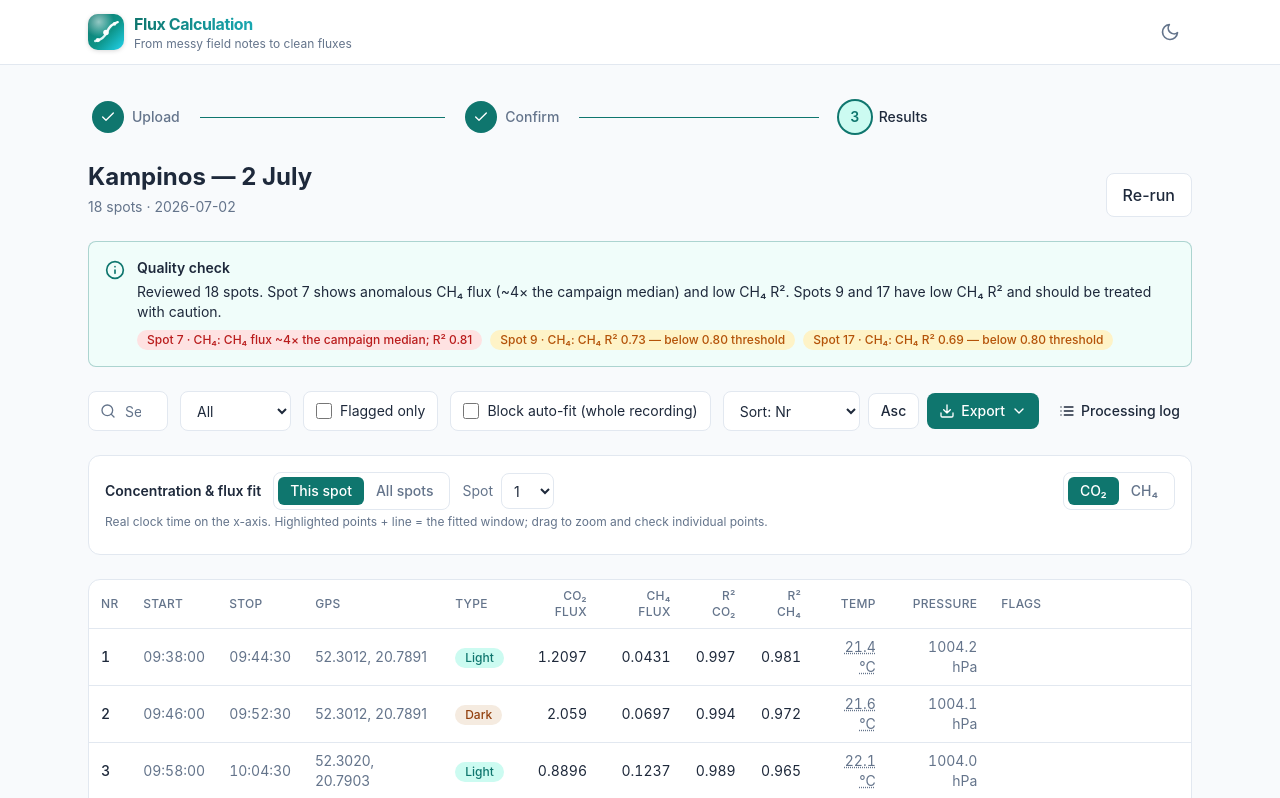
Test case: Results screen › blocks automatic fitting for all spots via the global toggle
Expected: the text "Quality check" is shown, [137,259,230,276]
Expected: the text "Automatic fitting is off" is not shown
Click the checkbox named "Block automatic time fitting (use whole recording)". click: {"x": 471, "y": 411}
box: [463,403,479,419]
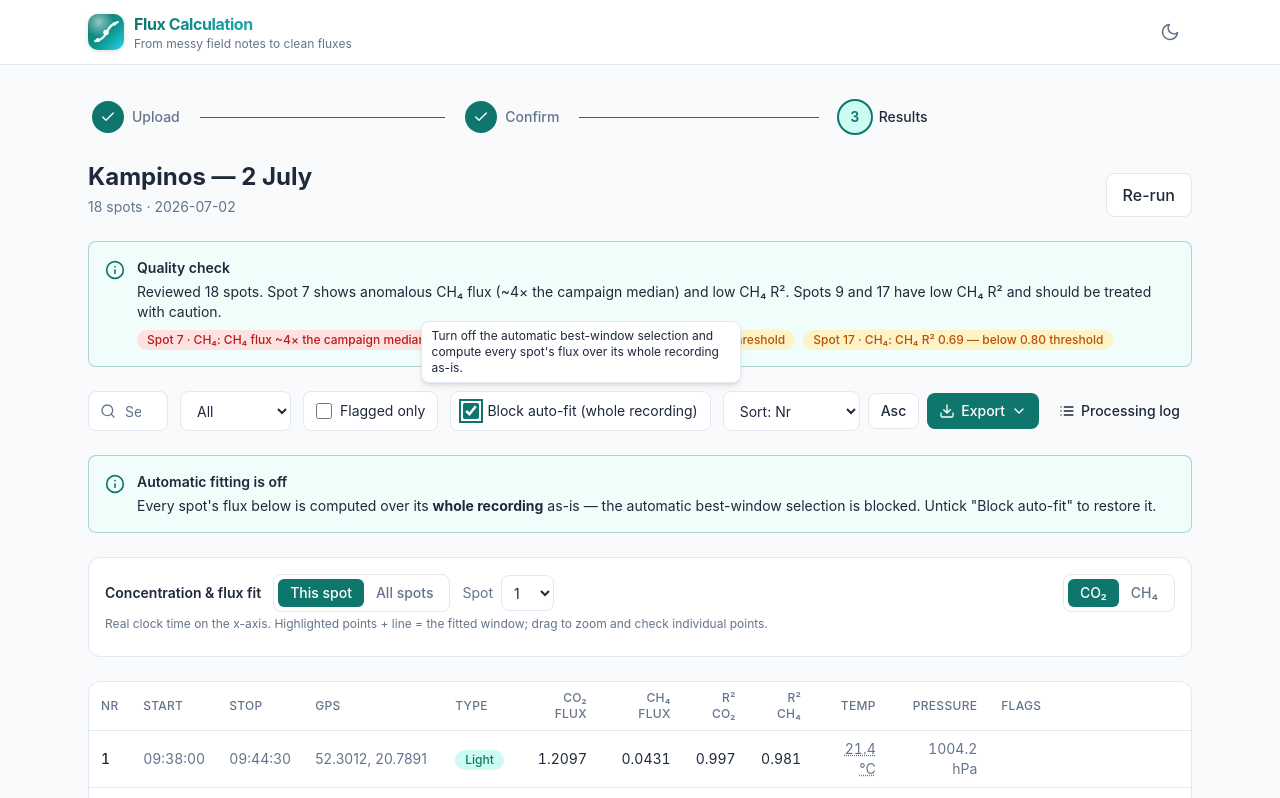
Result: the text "Automatic fitting is off" is shown at [137,473,287,490]
